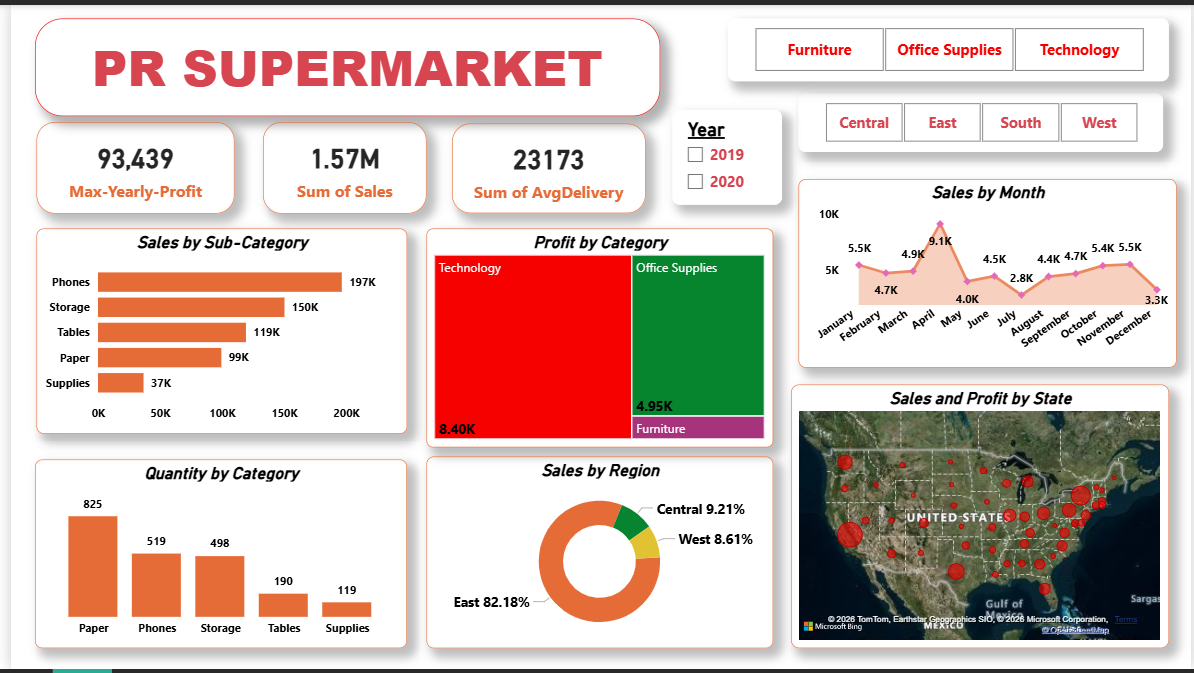

The page's visual inventory and layout, read from the dashboard file:
{"tool":"powerbi","page":{"name":"Page 1","canvas":[1280,720],"ordinal":0},"visuals":[{"type":"clusteredBarChart","title":"Sales by Sub-Category","fields":{"Y":["Sum(SuperStore_Sales_Dataset.Sales)"],"Category":["SuperStore_Sales_Dataset.Sub-Category"]},"box":[27.7,242.4,401.8,222.8],"z":0},{"type":"columnChart","title":"Quantity by Category","fields":{"Y":["CountNonNull(SuperStore_Sales_Dataset.Quantity)"],"Category":["SuperStore_Sales_Dataset.Sub-Category"]},"box":[26,492.8,403.4,204.9],"z":1000},{"type":"treemap","title":"Profit by Category","fields":{"Values":["Max(SuperStore_Sales_Dataset.Profit)"],"Group":["SuperStore_Sales_Dataset.Category"]},"box":[450.6,242.4,375.7,237.5],"z":2000},{"type":"donutChart","title":"Sales by Region","fields":{"Y":["Sum(SuperStore_Sales_Dataset.Sales)"],"Category":["SuperStore_Sales_Dataset.Region"]},"box":[450.6,489.6,375.7,208.2],"z":3000},{"type":"areaChart","title":"Sales by Month ","fields":{"Y":["Max(SuperStore_Sales_Dataset.Sales)"],"Category":["SuperStore_Sales_Dataset.Order Date.Variation.Date Hierarchy.Month"]},"box":[853.9,188.7,409.9,204.9],"z":4000},{"type":"slicer","fields":{"Values":["SuperStore_Sales_Dataset.Region"]},"box":[853.9,96,395.3,63.4],"z":5000},{"type":"slicer","fields":{"Values":["SuperStore_Sales_Dataset.Order Date.Variation.Date Hierarchy.Year"]},"box":[717.3,113.9,118.7,102.5],"z":6000},{"type":"slicer","fields":{"Values":["SuperStore_Sales_Dataset.Category"]},"box":[777.5,14.6,478.2,68.3],"z":7000},{"type":"textbox","box":[26,14.6,678.3,105.7],"z":8000},{"type":"map","title":"Sales and Profit by State","fields":{"Category":["SuperStore_Sales_Dataset.State"],"Size":["Sum(SuperStore_Sales_Dataset.Sales)"]},"box":[845.8,411.5,409.9,286.3],"z":9000},{"type":"card","fields":{"Values":["SuperStore_Sales_Dataset.Max-Yearly-Profit"]},"box":[27.7,126.9,214.7,99.2],"z":10000},{"type":"card","fields":{"Values":["Sum(SuperStore_Sales_Dataset.Sales)"]},"box":[273.3,126.9,177.3,99.2],"z":11000},{"type":"card","fields":{"Values":["Sum(SuperStore_Sales_Dataset.AvgDelivery)"]},"box":[478.2,128.5,209.8,97.6],"z":12000}]}

Visuals, with their boxes in screenshot pixels (x1, y1, x2, y2), scaled from the page's 1280x720 canvas onto the 1194x673 screenshot:
"Sales by Sub-Category" clusteredBarChart: 26, 227, 401, 435
"Quantity by Category" columnChart: 24, 461, 401, 652
"Profit by Category" treemap: 420, 227, 771, 449
"Sales by Region" donutChart: 420, 458, 771, 652
"Sales by Month " areaChart: 797, 176, 1179, 368
slicer - SuperStore_Sales_Dataset.Region: 797, 90, 1165, 149
slicer - SuperStore_Sales_Dataset.Order Date.Variation.Date Hierarchy.Year: 669, 106, 780, 202
slicer - SuperStore_Sales_Dataset.Category: 725, 14, 1171, 77
textbox: 24, 14, 657, 112
"Sales and Profit by State" map: 789, 385, 1171, 652
card - SuperStore_Sales_Dataset.Max-Yearly-Profit: 26, 119, 226, 211
card - Sum(SuperStore_Sales_Dataset.Sales): 255, 119, 420, 211
card - Sum(SuperStore_Sales_Dataset.AvgDelivery): 446, 120, 642, 211
